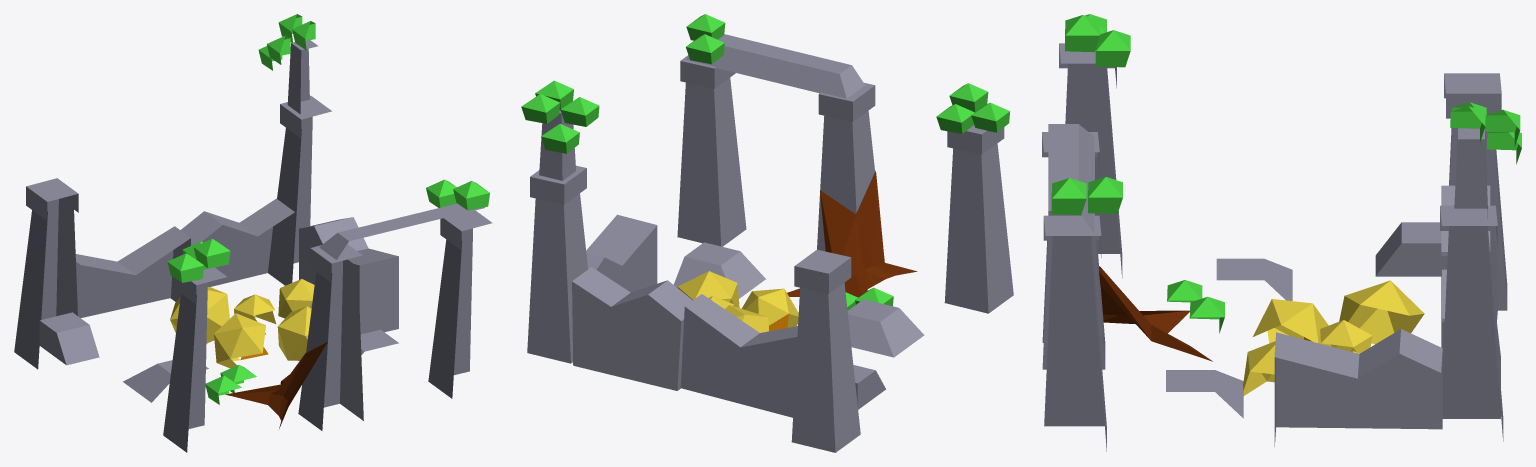
Rendered from RUIN.glb.
The picture shows the model from 3 angles, left to right: view 1: azimuth 30°, elevation 25°; view 2: azimuth 150°, elevation 25°; view 3: azimuth 270°, elevation 25°; orthographic projection. The views are drawn at different scales.
Parts seen in each view (by area): view 1: Ruin; view 2: Ruin; view 3: Ruin.
Boxes of the visible parts, <box> form: Ruin: <box>14,14,492,452</box>; Ruin: <box>521,14,1013,452</box>; Ruin: <box>1042,14,1521,451</box>.
Size of the model in its own units: 2.45 by 2.11 by 2.57.
Materials: 1 (1 with a texture image).
